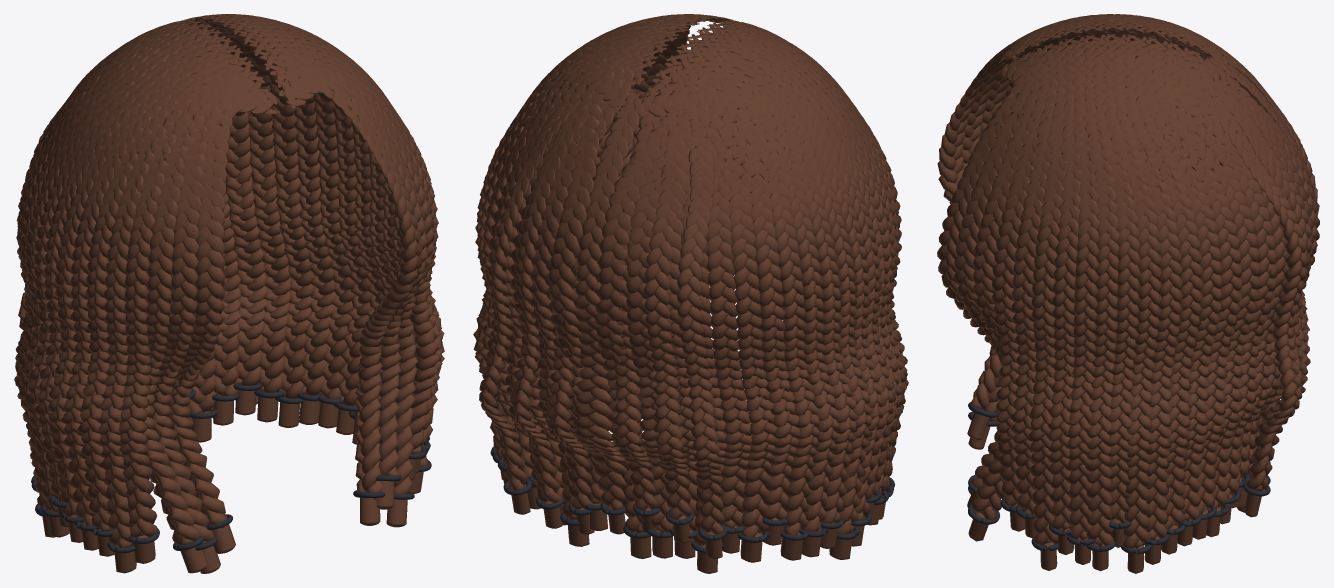
The model's file is box-braids-bucket-default.glb.
3 renders of one model, left to right at view 1: azimuth 30°, elevation 25°; view 2: azimuth 150°, elevation 25°; view 3: azimuth 270°, elevation 25°, orthographic. The views are drawn at different scales.
Visible parts, largest first — view 1: 226 hair / Hair / chestnut226.001, 226 hair / Hair / ties226.001; view 2: 226 hair / Hair / chestnut226.001, 226 hair / Hair / ties226.001; view 3: 226 hair / Hair / chestnut226.001, 226 hair / Hair / ties226.001.
Part boxes in pixels (bbox=[...]): 226 hair / Hair / chestnut226.001: bbox=[14, 14, 444, 573]; 226 hair / Hair / ties226.001: bbox=[31, 383, 431, 553]; 226 hair / Hair / chestnut226.001: bbox=[473, 14, 908, 573]; 226 hair / Hair / ties226.001: bbox=[490, 408, 894, 553]; 226 hair / Hair / chestnut226.001: bbox=[937, 14, 1319, 573]; 226 hair / Hair / ties226.001: bbox=[968, 402, 1270, 554].
Size of the model in its own units: 0.9094 by 1.06 by 0.7878.
